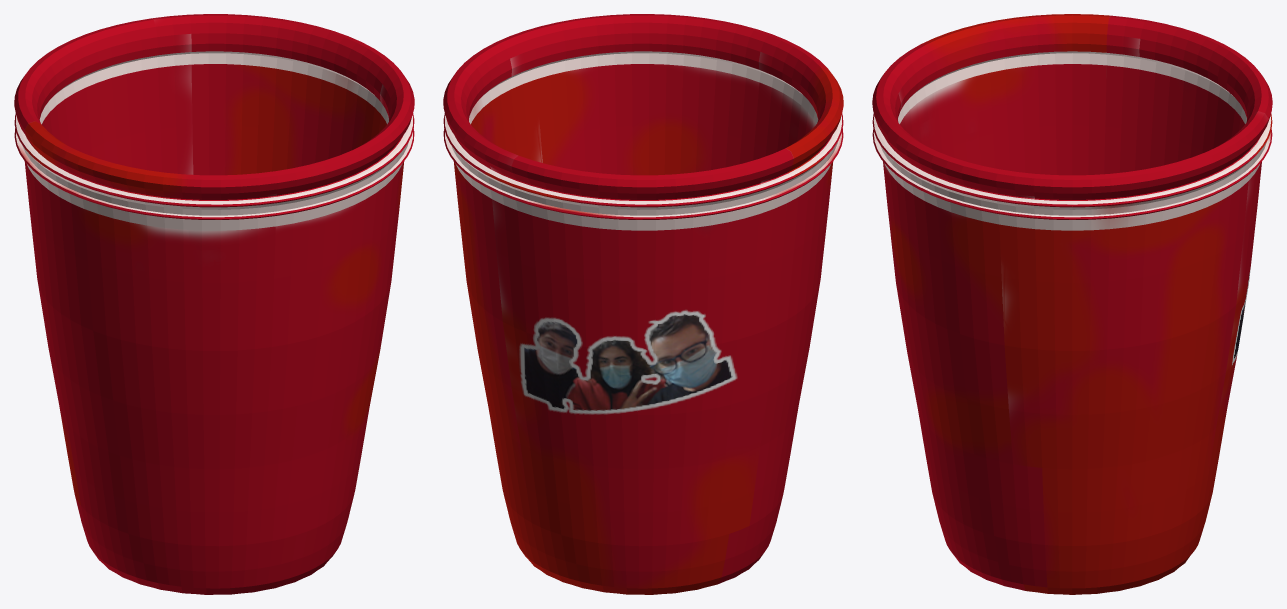
Rendered from birra (2).fbx.
3 renders of one model, left to right at view 1: azimuth 30°, elevation 25°; view 2: azimuth 150°, elevation 25°; view 3: azimuth 270°, elevation 25°, orthographic.
Visible parts, largest first — view 1: Plane.001; view 2: Plane.001; view 3: Plane.001.
Boxes of the visible parts, left/top/right/bottom form: Plane.001: left=14, top=14, right=414, bottom=594; Plane.001: left=443, top=14, right=843, bottom=594; Plane.001: left=872, top=14, right=1272, bottom=594.
Bounding box in the file's own units: 9.76 × 12.14 × 9.76.
Materials: 1 (1 with a texture image).
